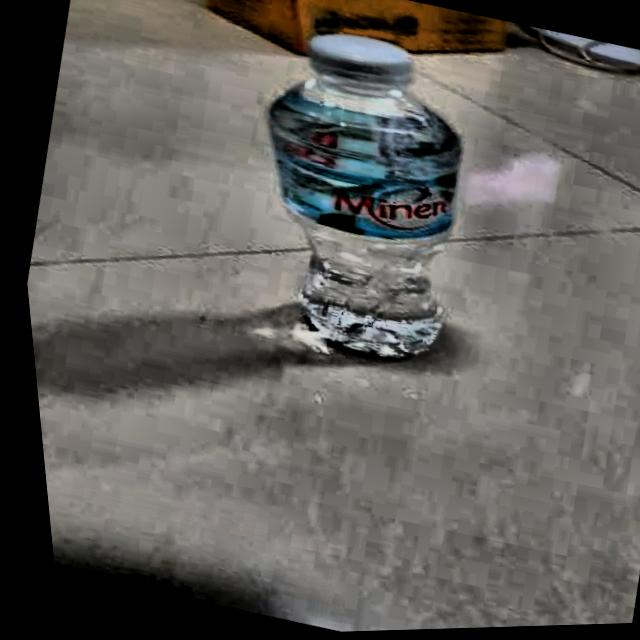Bottles: (186, 0, 551, 420)
